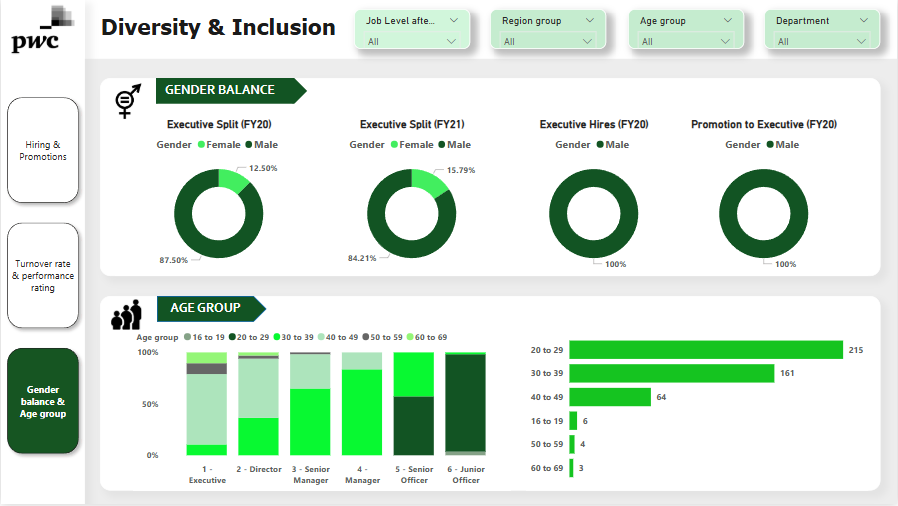

The page's visual inventory and layout, read from the dashboard file:
{"tool":"powerbi","page":{"name":"Gender balance & Age group","canvas":[1280,720],"ordinal":2},"visuals":[{"type":"shape","box":[0,0,1280,84.1],"z":0},{"type":"shape","box":[0,0,119.7,720.1],"z":1000},{"type":"shape","box":[140.8,111.7,1114.9,283.2],"z":2000},{"type":"shape","box":[140.8,422.4,1114.9,278.3],"z":3000},{"type":"shape","box":[221.4,111.4,217.1,37.1],"z":4000},{"type":"textbox","box":[202.9,111.4,215.7,37.1],"z":5000},{"type":"shape","box":[222.9,422.9,157.1,37.1],"z":6000},{"type":"textbox","box":[221.4,422.9,141.4,37.1],"z":7000},{"type":"slicer","fields":{"Values":["Pharma Group AG.Last Department in FY20"]},"box":[1090,12.9,165.7,57.1],"z":8000},{"type":"slicer","fields":{"Values":["Pharma Group AG.Age group"]},"box":[895.7,12.9,165.7,57.1],"z":9000},{"type":"slicer","fields":{"Values":["Pharma Group AG.Region group: nationality 1"]},"box":[698.6,12.9,165.7,57.1],"z":10000},{"type":"slicer","fields":{"Values":["Pharma Group AG.Job Level after FY20 promotions"]},"box":[504.3,12.9,165.7,57.1],"z":11000},{"type":"textbox","box":[131.4,12.9,358.6,57.1],"z":12000},{"type":"image","box":[0,0,120,84.3],"z":13000},{"type":"donutChart","title":"Executive Split (FY20)","fields":{"Category":["Pharma Group AG.Gender"],"Y":["CountNonNull(Pharma Group AG.Employee ID)"]},"box":[162.9,167.1,297.1,227.1],"z":14000},{"type":"donutChart","title":"Executive Split (FY21)","fields":{"Category":["Pharma Group AG.Gender"],"Y":["CountNonNull(Pharma Group AG.Employee ID)"]},"box":[438.6,167.1,297.1,227.1],"z":15000},{"type":"donutChart","title":"Executive Hires (FY20)","fields":{"Category":["Pharma Group AG.Gender"],"Y":["CountNonNull(Pharma Group AG.Employee ID)"]},"box":[698.6,167.1,297.1,227.1],"z":16000},{"type":"donutChart","title":"Promotion to Executive (FY20)","fields":{"Category":["Pharma Group AG.Gender"],"Y":["CountNonNull(Pharma Group AG.Employee ID)"]},"box":[941.4,167.1,297.1,227.1],"z":17000},{"type":"hundredPercentStackedColumnChart","fields":{"Category":["Pharma Group AG.Job Level after FY21 promotions"],"Y":["CountNonNull(Pharma Group AG.Employee ID)"],"Series":["Pharma Group AG.Age group"]},"box":[188.6,461.4,540,240],"z":18000},{"type":"clusteredBarChart","fields":{"Category":["Pharma Group AG.Age group"],"Y":["CountNonNull(Pharma Group AG.Employee ID)"]},"box":[750,460,488.6,241.4],"z":19000},{"type":"image","box":[141.4,422.9,75.7,52.9],"z":20000},{"type":"image","box":[141.4,111.4,75.7,65.7],"z":21000},{"type":"pageNavigator","box":[0,130,120,528.6],"z":22000}]}

Visuals, with their boxes in screenshot pixels (x1, y1, x2, y2), scaled from the page's 1280x720 canvas onto the 898x506 screenshot:
shape: bbox(0, 0, 897, 59)
shape: bbox(0, 0, 84, 505)
shape: bbox(99, 79, 881, 278)
shape: bbox(99, 297, 881, 492)
shape: bbox(155, 78, 308, 104)
textbox: bbox(142, 78, 294, 104)
shape: bbox(156, 297, 267, 323)
textbox: bbox(155, 297, 255, 323)
slicer - Pharma Group AG.Last Department in FY20: bbox(765, 9, 881, 49)
slicer - Pharma Group AG.Age group: bbox(628, 9, 745, 49)
slicer - Pharma Group AG.Region group: nationality 1: bbox(490, 9, 606, 49)
slicer - Pharma Group AG.Job Level after FY20 promotions: bbox(354, 9, 470, 49)
textbox: bbox(92, 9, 344, 49)
image: bbox(0, 0, 84, 59)
"Executive Split (FY20)" donutChart: bbox(114, 117, 323, 277)
"Executive Split (FY21)" donutChart: bbox(308, 117, 516, 277)
"Executive Hires (FY20)" donutChart: bbox(490, 117, 699, 277)
"Promotion to Executive (FY20)" donutChart: bbox(660, 117, 869, 277)
hundredPercentStackedColumnChart - Pharma Group AG.Job Level after FY21 promotions x CountNonNull(Pharma Group AG.Employee ID): bbox(132, 324, 511, 493)
clusteredBarChart - Pharma Group AG.Age group x CountNonNull(Pharma Group AG.Employee ID): bbox(526, 323, 869, 493)
image: bbox(99, 297, 152, 334)
image: bbox(99, 78, 152, 124)
pageNavigator: bbox(0, 91, 84, 463)
